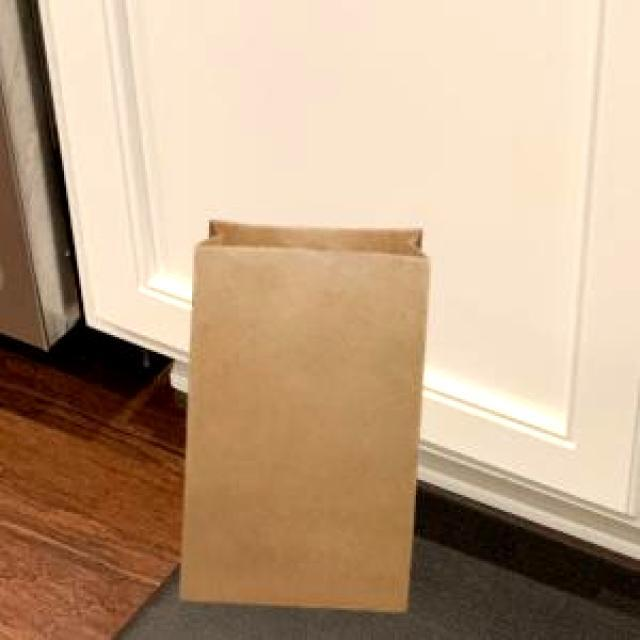Paper_Bag: (178, 216, 426, 610)
